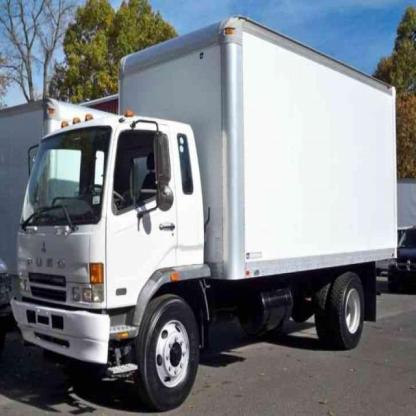truck: (11, 17, 397, 407)
